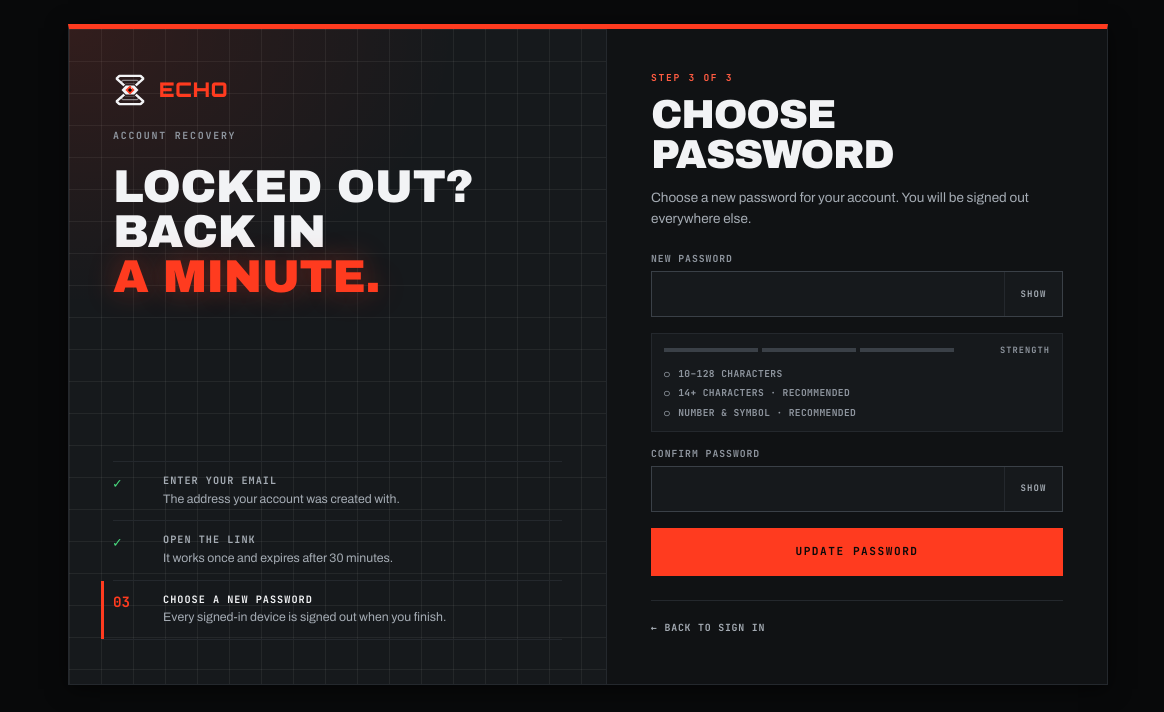
it: PasswordResetPage — choose a new password › requires the confirmation to be filled in
Type "a-new-password-1" into the password field labelled "NEW PASSWORD" at point(828, 294), box [652,272,1004,316]
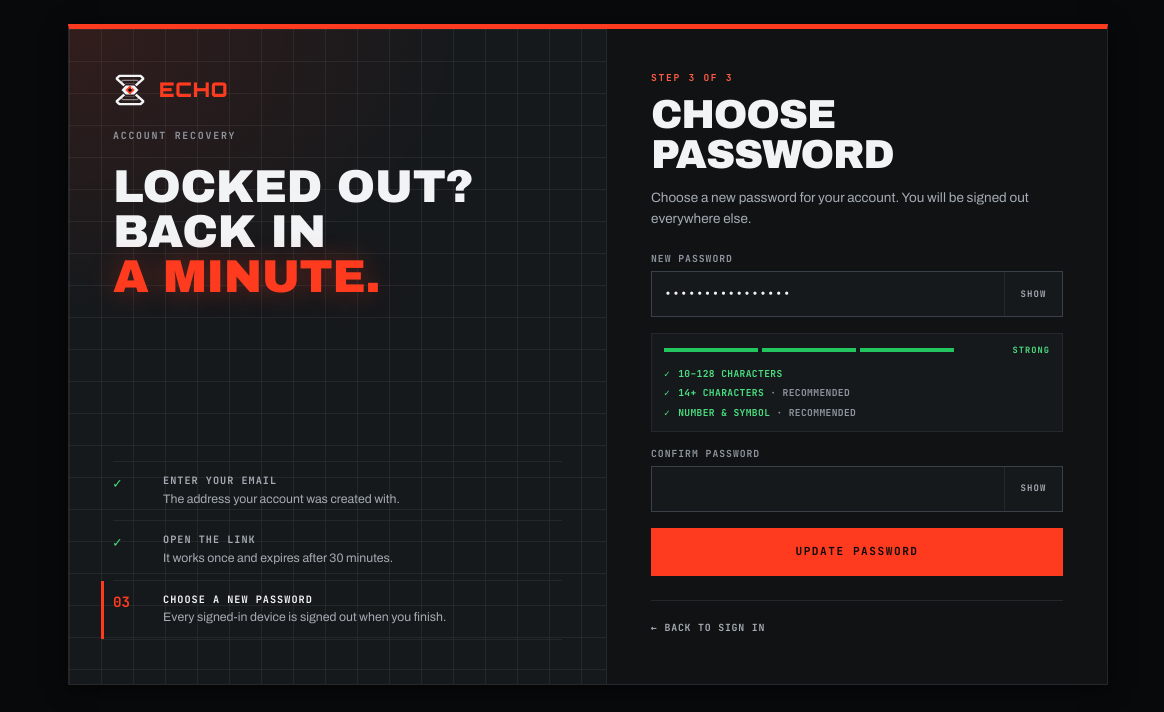
Click the button "UPDATE PASSWORD" at point(857, 552), box [651,528,1063,576]
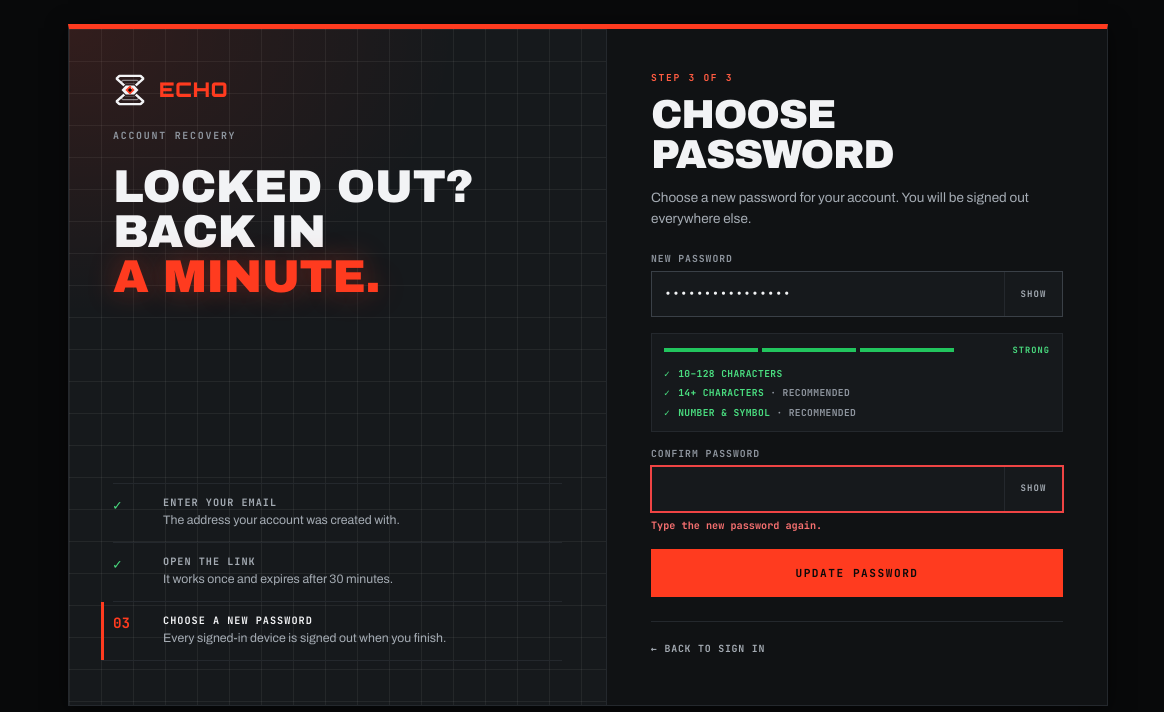
Check: the text "Type the new password again." is shown, box [651,519,822,532]
